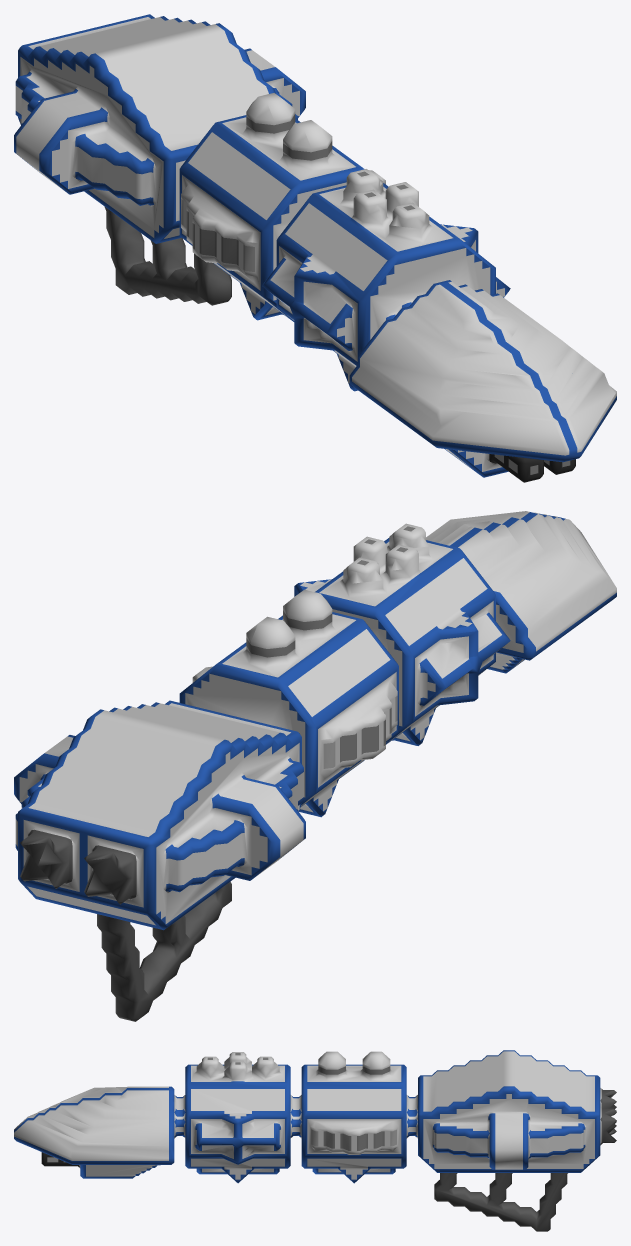
The model's file is diadochi-3-charon-class.obj.
3 views of the same model, one above another, from view 1: azimuth 30°, elevation 25°; view 2: azimuth 150°, elevation 25°; view 3: azimuth 270°, elevation 25° (orthographic). The views are drawn at different scales.
Size of the model in its own units: 33 by 35 by 109.
1 material, 1 textured.
